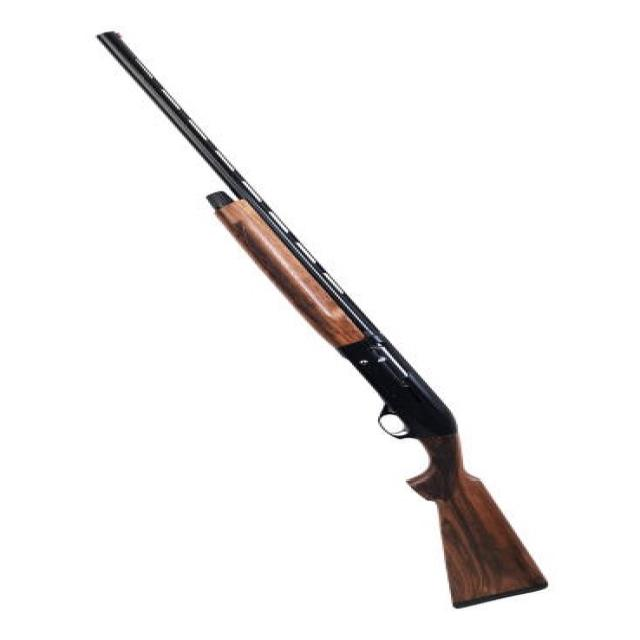rifle: (94, 21, 562, 615)
